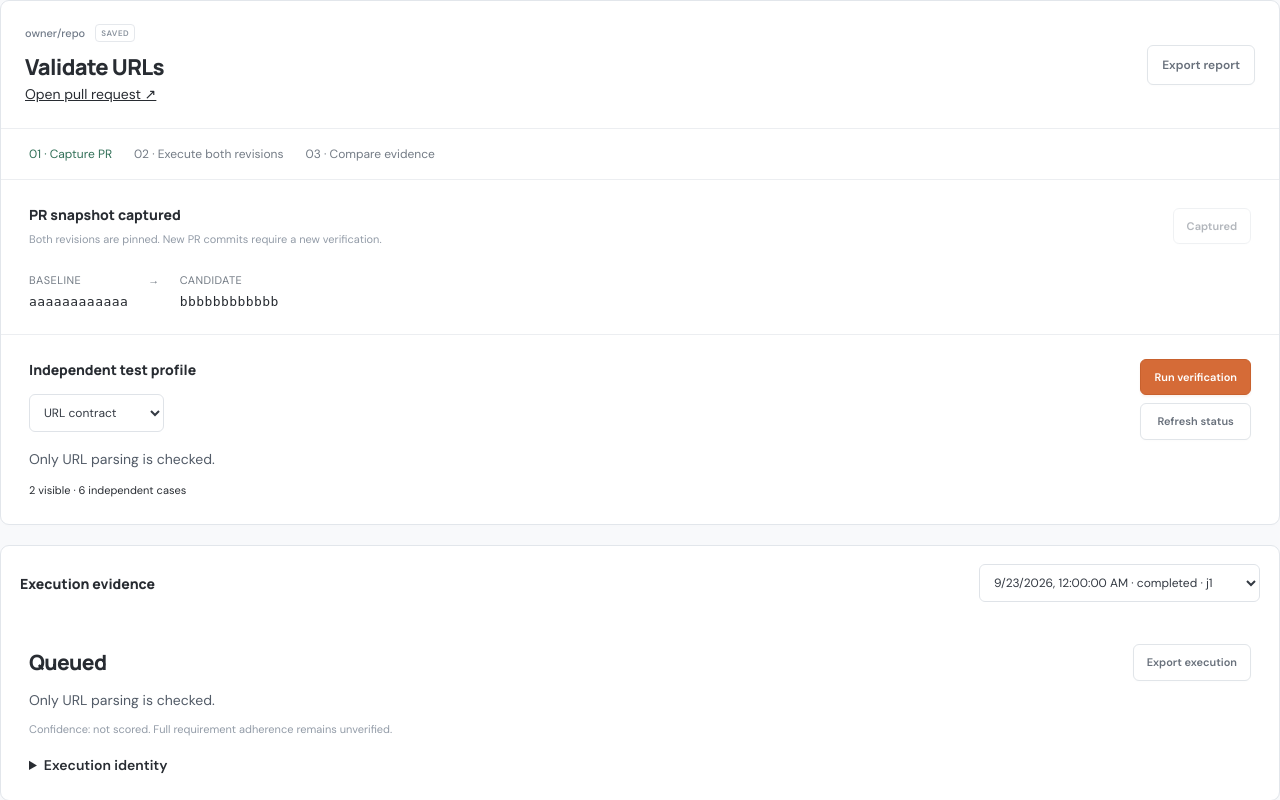
Test: requests the selected historical execution rather than displaying the latest result
Select "9/23/2026, 12:00:00 AM · failed · old" in the dropdown named "Execution history". click: [1120, 583]
box: left=979, top=564, right=1260, bottom=602
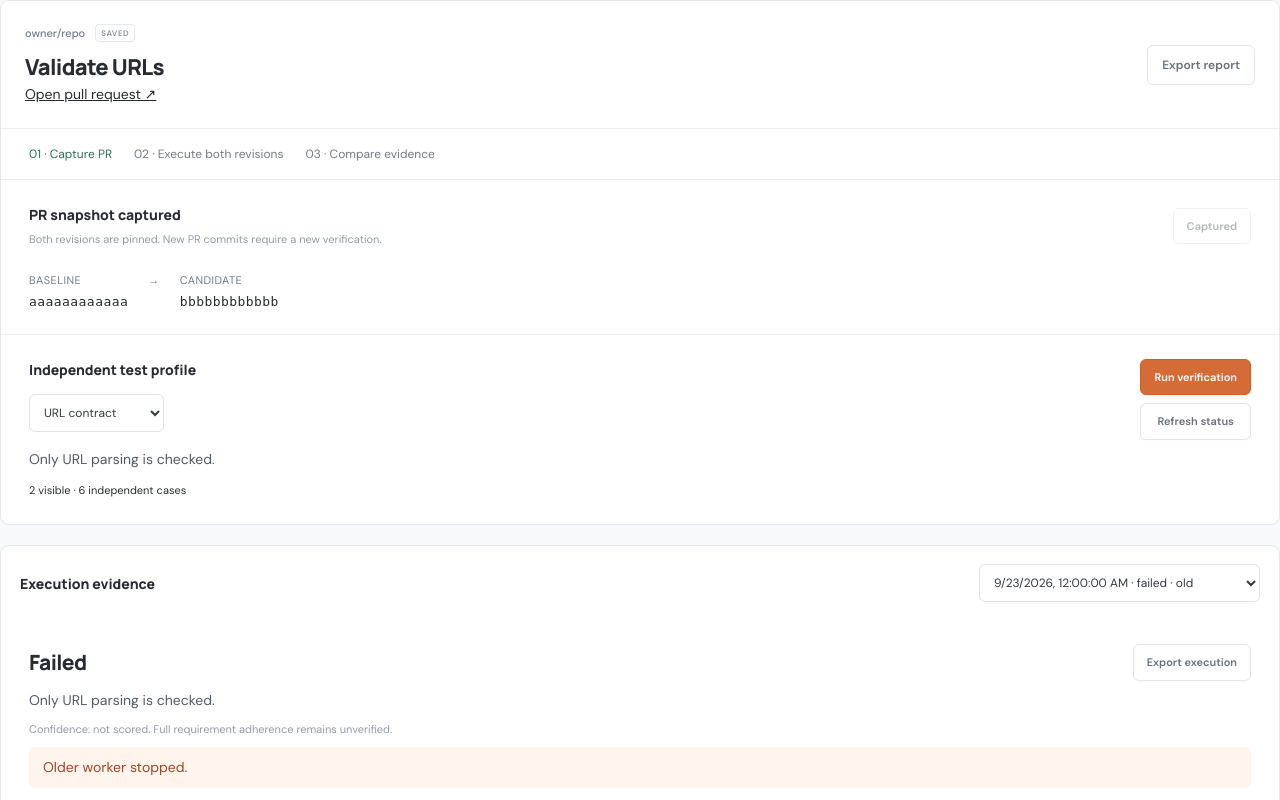
Check: the text "Older worker stopped." is shown, box left=29, top=747, right=1251, bottom=788
